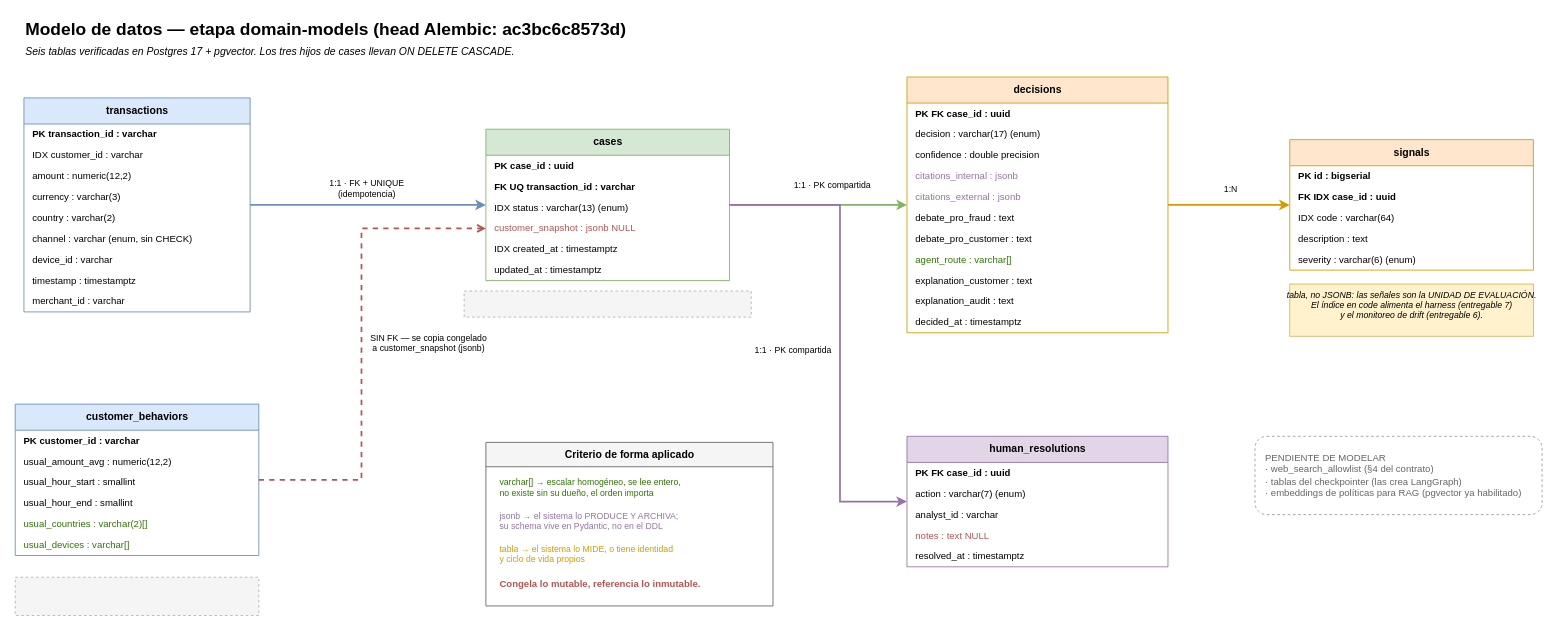
The diagram is 1557 pixels wide and 631 high, and some of its shapes have lost their labels. The centre of each missing label's shape, as x and y in pixels:
"ESTADO ACTUAL, sin versionado. La historia la guarda el caso." goes at (x=136, y=596).
"índice compuesto (status, created_at) = la consulta de la cola HITL" goes at (x=607, y=303).
